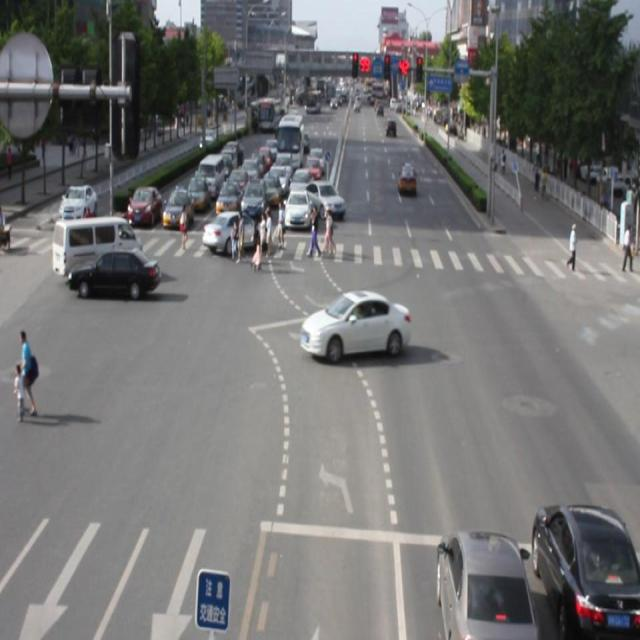car: (523, 495, 640, 640), (429, 524, 530, 640), (301, 289, 410, 360), (70, 245, 162, 299), (203, 208, 267, 254)
